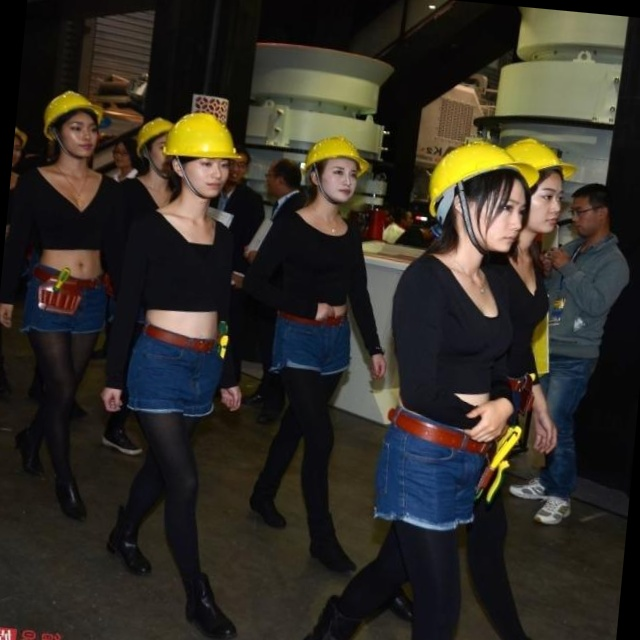Con_Casco: (160, 110, 245, 201), (298, 134, 375, 207)
